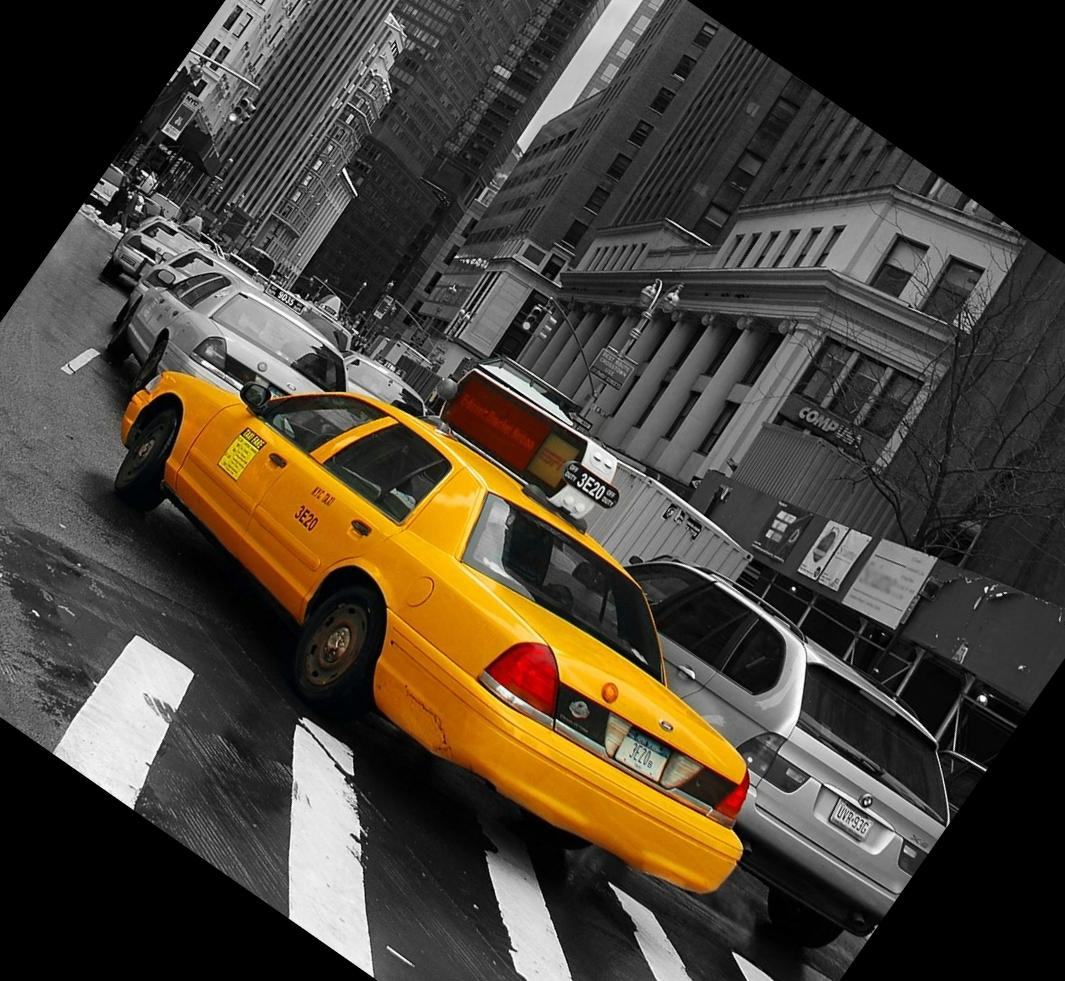taxi: (104, 325, 758, 920)
